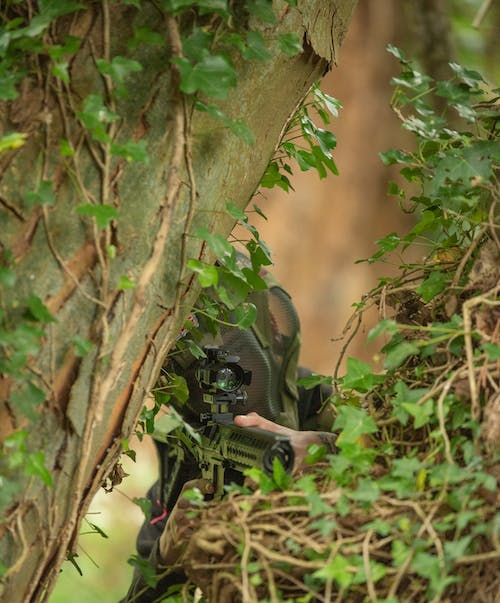gun: (143, 343, 299, 517)
